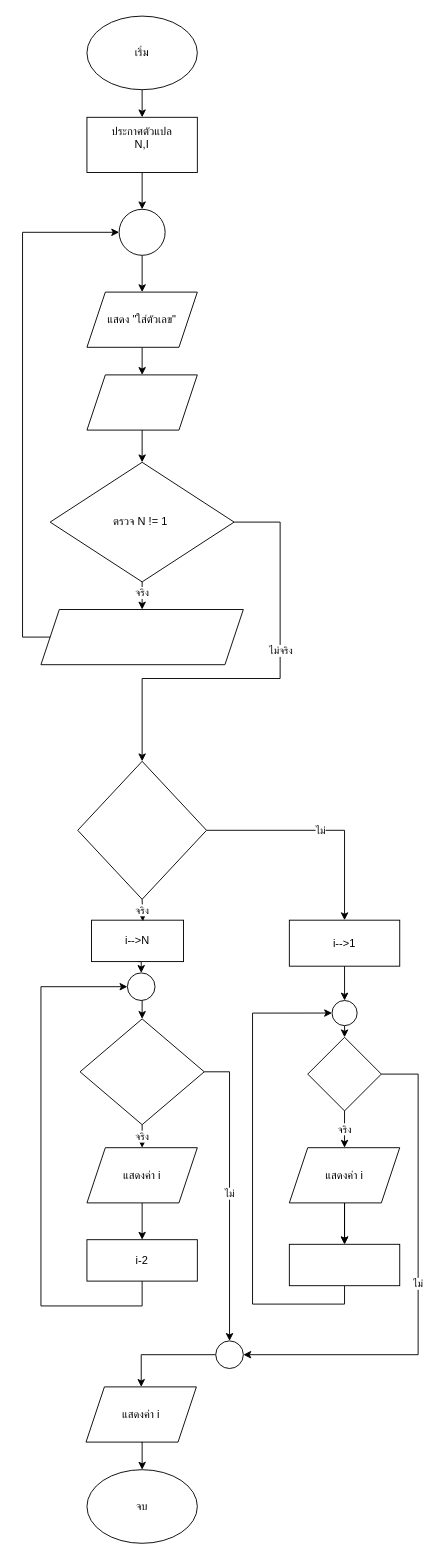
This 442x1559 diagram has some shape labels left out. The shapes that lost their labels are listed below. From the top down, each one's centre as x and y in pixels, then its label:
point (141, 402): รับค่าตัวเลข-->N
point (141, 637): แสดง "ใส่ตัวเลขเท่านัน"
point (142, 829): N%2==0
point (141, 1071): i != 0
point (344, 1073): i != N
point (344, 1264): i+2
